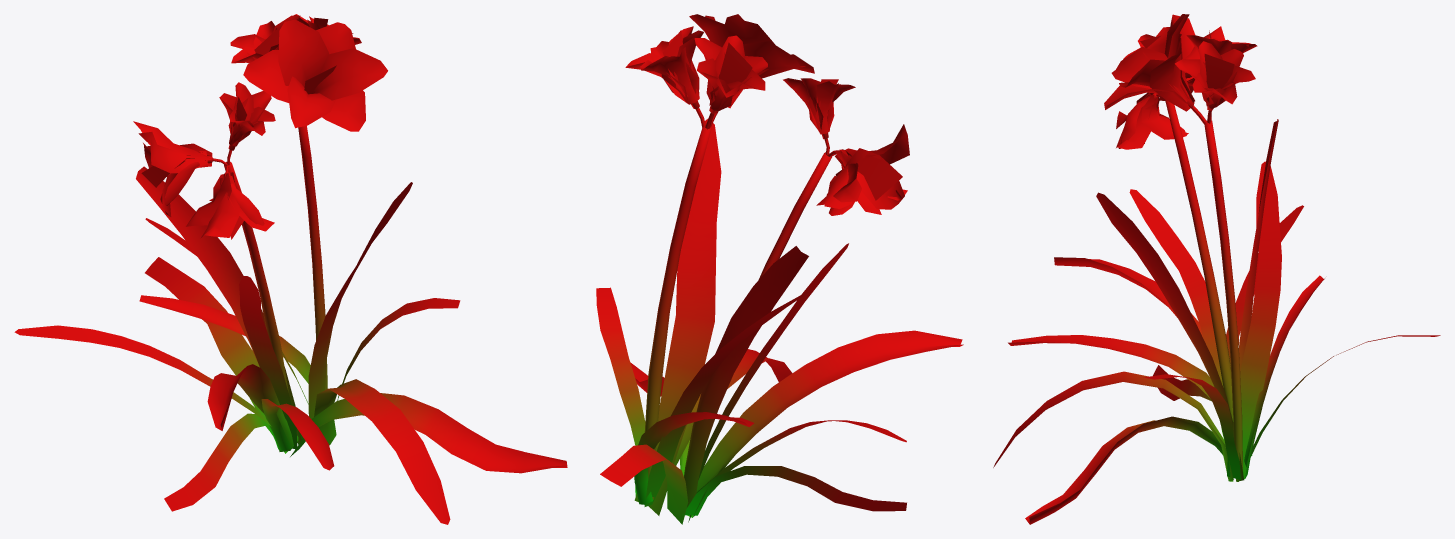
The model's file is Var4_LOD0.fbx.
3 renders of one model, left to right at view 1: azimuth 30°, elevation 25°; view 2: azimuth 150°, elevation 25°; view 3: azimuth 270°, elevation 25°, orthographic. The views are drawn at different scales.
Parts seen in each view (by area): view 1: _534f_Var4_LOD0; view 2: _534f_Var4_LOD0; view 3: _534f_Var4_LOD0.
Boxes of the visible parts, x1,y1,x2,y2 form: _534f_Var4_LOD0: [14, 14, 567, 524]; _534f_Var4_LOD0: [596, 14, 963, 524]; _534f_Var4_LOD0: [993, 14, 1440, 524].
Bounding box in the file's own units: 73.95 × 79.48 × 72.62.
